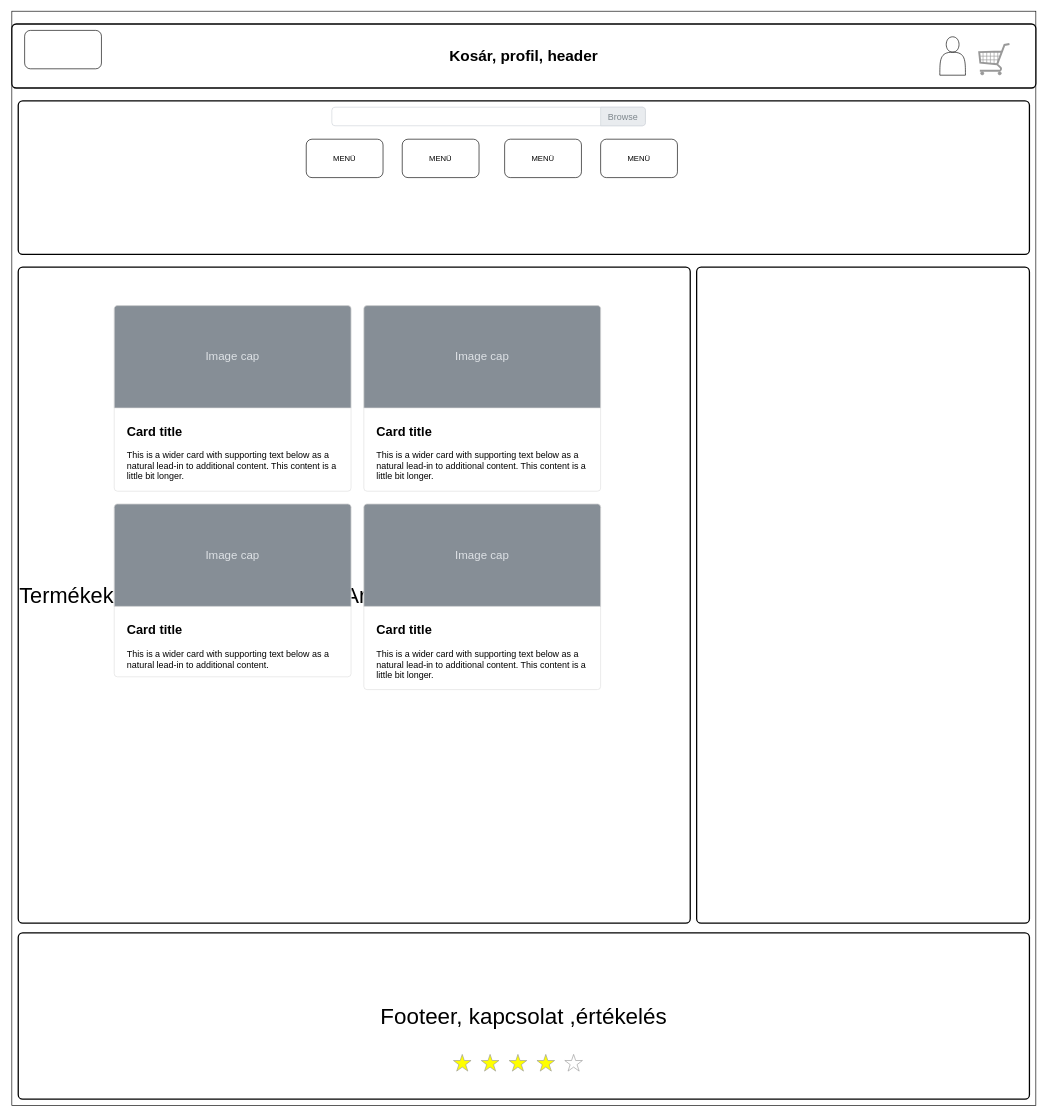
Image size: 1047x1117. Some labels were removed from this diagram. The shapes that lost their labels are listed below. From the top down, each one's centre as x and y in pixels, then its label:
At (x=62, y=49): "LOGO".
At (x=488, y=116): "Choose file".
At (x=863, y=595): "Aside valami szövegel".
